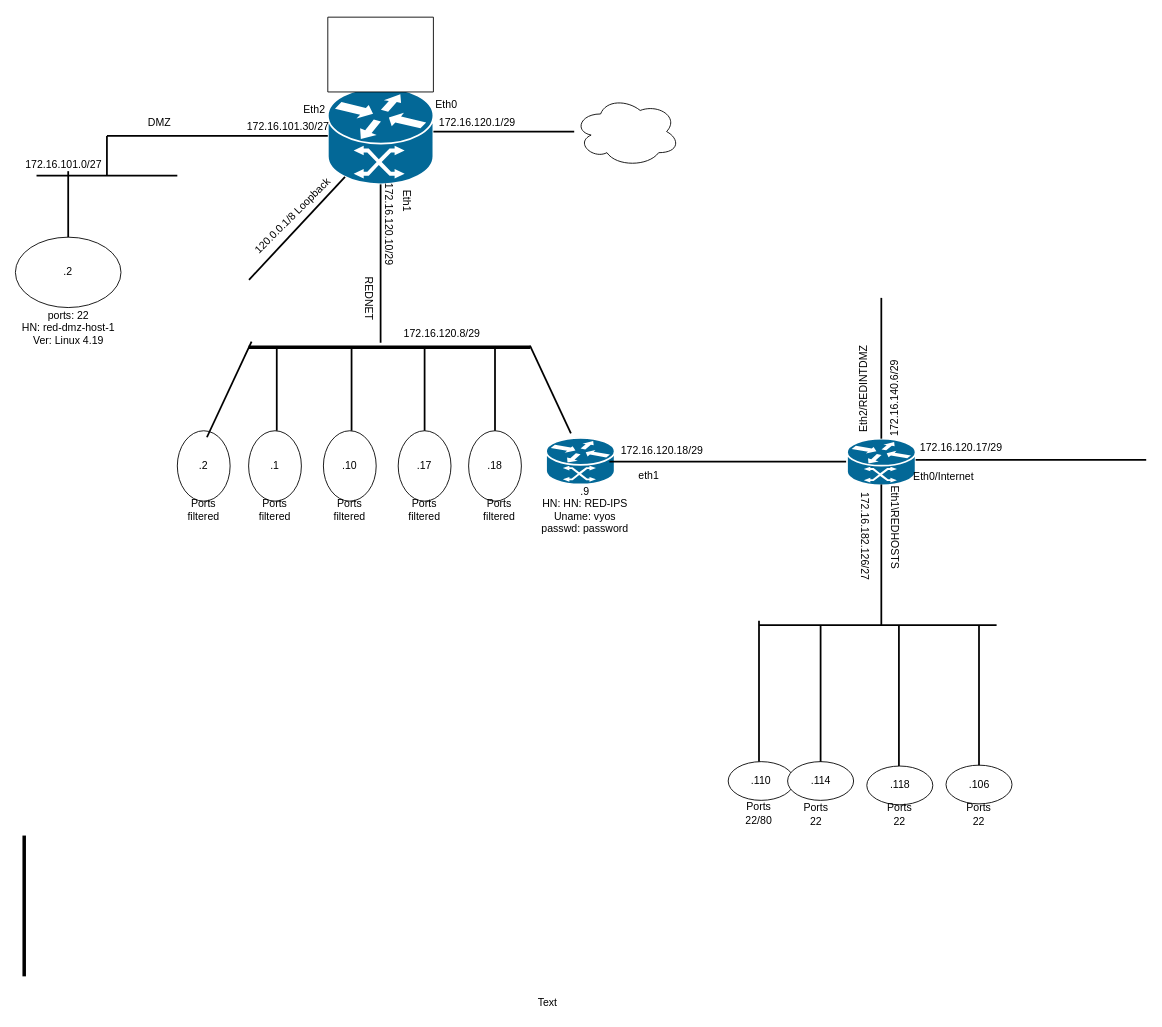
This 1162x1027 diagram has some shape labels left out. The shapes that lost their labels are listed below. From the top down, each one's centre as x and y in pixels, then its label:
the point at 380,54: HN: RED-SCR ip: 10.0.0.33 Uname: Vyos Passwd: password Ports 22 179
the point at 626,131: Internet
